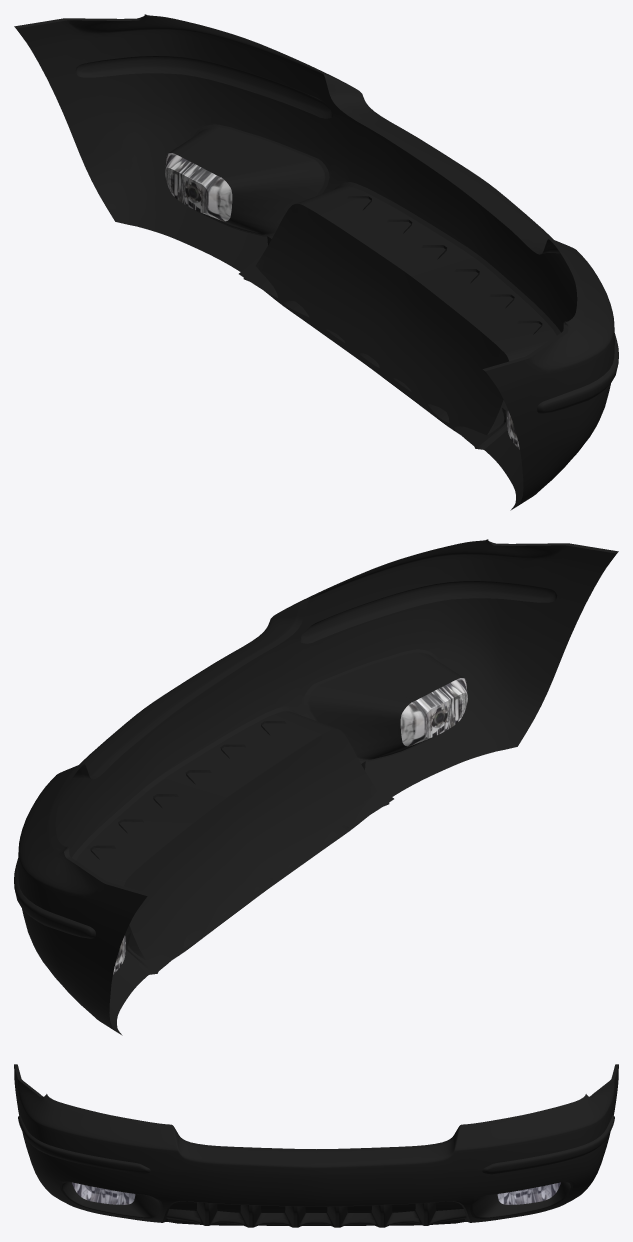
3 views of the same model, one above another, from view 1: azimuth 30°, elevation 25°; view 2: azimuth 150°, elevation 25°; view 3: azimuth 270°, elevation 25° (orthographic). The views are drawn at different scales.
Visible parts, largest first — view 1: J731_021G_C_J731_021G_C_4_D, J731_021G_C_J731_021G_C_3_D, J731_021G_C_J731_021G_C_4_D_E, J731_021G_C_1_N_J731_021G_C; view 2: J731_021G_C_J731_021G_C_4_D, J731_021G_C_J731_021G_C_3_D, J731_021G_C_J731_021G_C_4_D_E, J731_021G_C_J731_021G_C_2_N; view 3: J731_021G_C_J731_021G_C_4_D, J731_021G_C_J731_021G_C_4_D_E, J731_021G_C_J731_021G_C_3_D, J731_021G_C_1_N_J731_021G_C, J731_021G_C_J731_021G_C_2_N, J731_021G_C_J731_021G_C_5_DTaSI, J731_021G_C_J731_021G_C_6_DTaSI.
Part boxes in pixels (<box>): J731_021G_C_J731_021G_C_4_D: <box>15,14,614,510</box>; J731_021G_C_J731_021G_C_3_D: <box>244,204,508,448</box>; J731_021G_C_J731_021G_C_4_D_E: <box>14,15,618,449</box>; J731_021G_C_1_N_J731_021G_C: <box>165,153,232,221</box>; J731_021G_C_J731_021G_C_4_D: <box>18,539,617,1035</box>; J731_021G_C_J731_021G_C_3_D: <box>124,729,388,973</box>; J731_021G_C_J731_021G_C_4_D_E: <box>14,540,618,974</box>; J731_021G_C_J731_021G_C_2_N: <box>400,678,467,746</box>; J731_021G_C_J731_021G_C_4_D: <box>14,1065,618,1227</box>; J731_021G_C_J731_021G_C_4_D_E: <box>14,1064,618,1222</box>; J731_021G_C_J731_021G_C_3_D: <box>167,1201,465,1225</box>; J731_021G_C_1_N_J731_021G_C: <box>497,1182,560,1204</box>; J731_021G_C_J731_021G_C_2_N: <box>72,1182,135,1204</box>; J731_021G_C_J731_021G_C_5_DTaSI: <box>72,1182,134,1204</box>; J731_021G_C_J731_021G_C_6_DTaSI: <box>498,1182,560,1204</box>.
Bounding box in the file's own units: 64.73 × 51.73 × 220.
